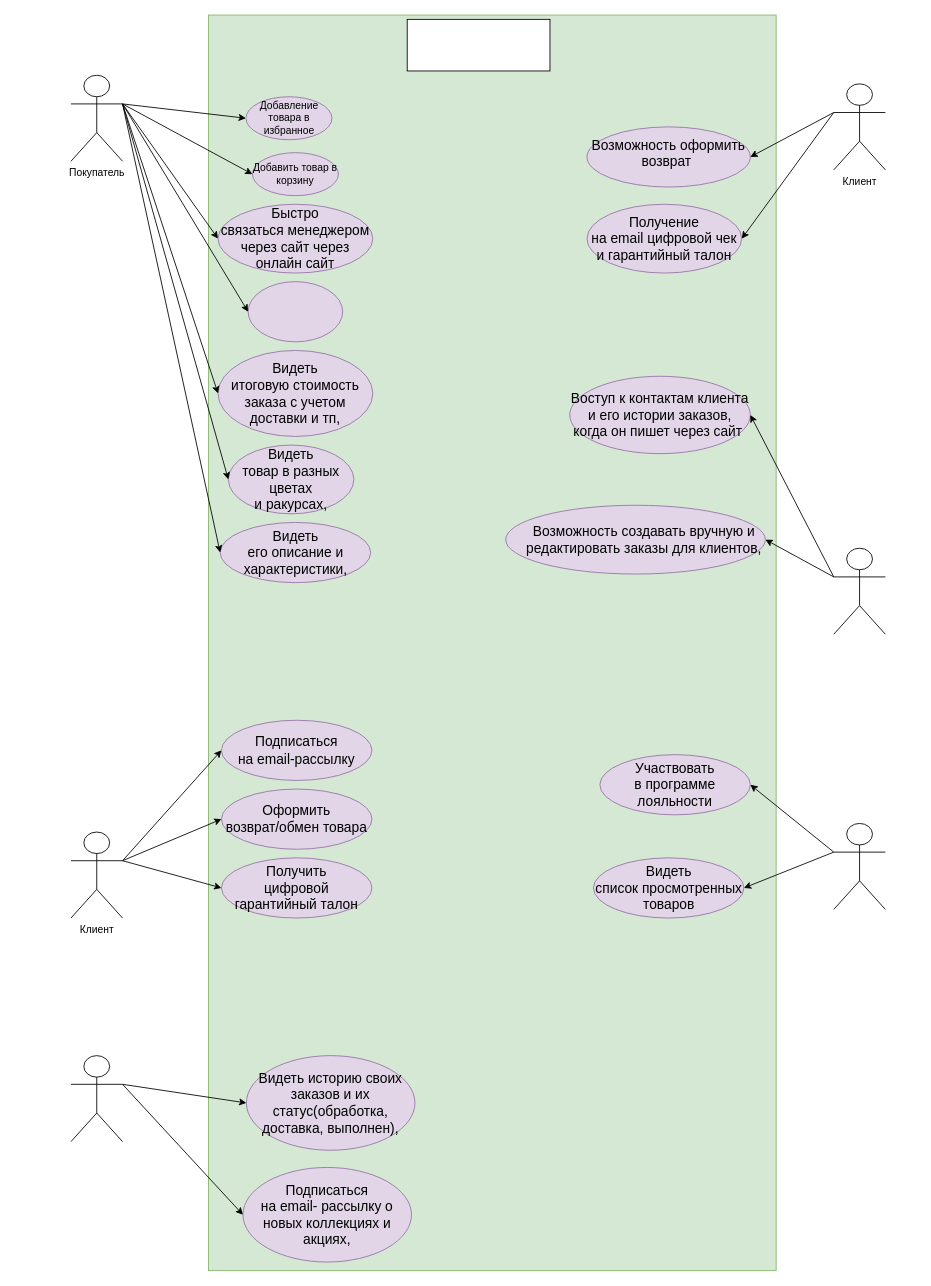
Image size: 931x1286. Some labels were removed from this diagram. The centre of each missing label's shape, as x and y in pixels:
Выбрать дату и время доставки: point 295,311
Зарегестрированый пользователь: point 96,1098
ИС"Мебельный магазин": point 478,44
Менеджер: point 859,590
Постоянный покупатель: point 859,866
